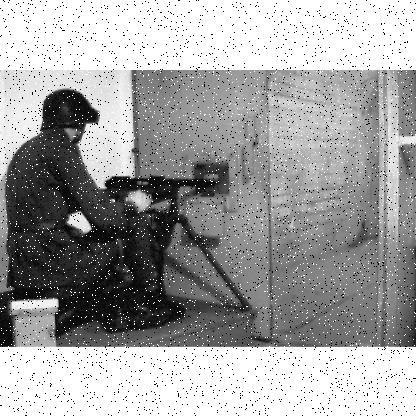gun: (93, 162, 219, 216)
